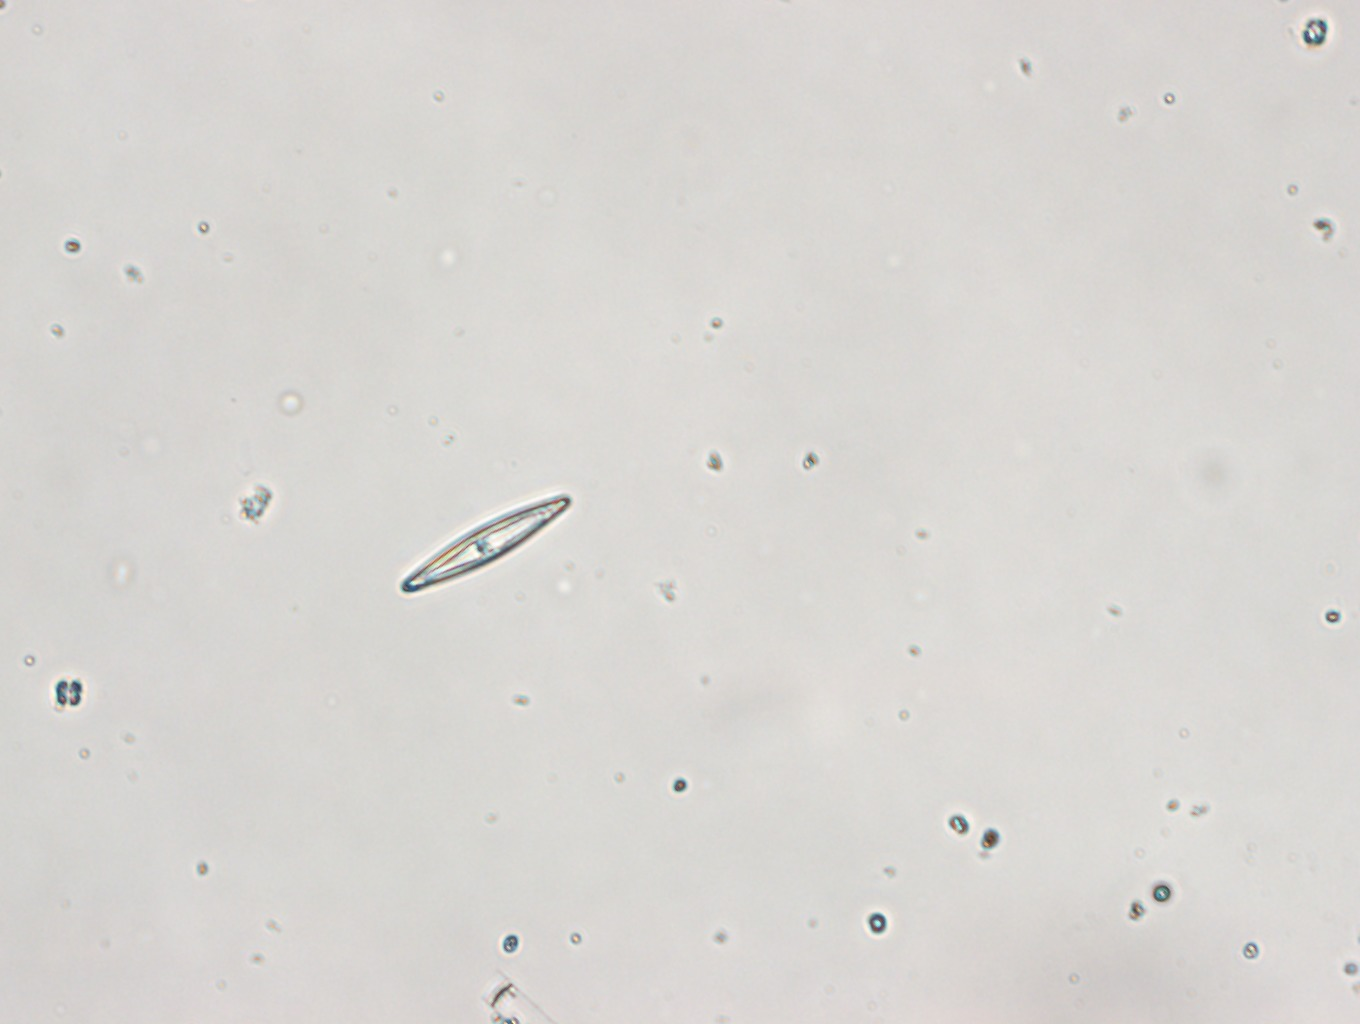navicula: (397, 489, 574, 596)
